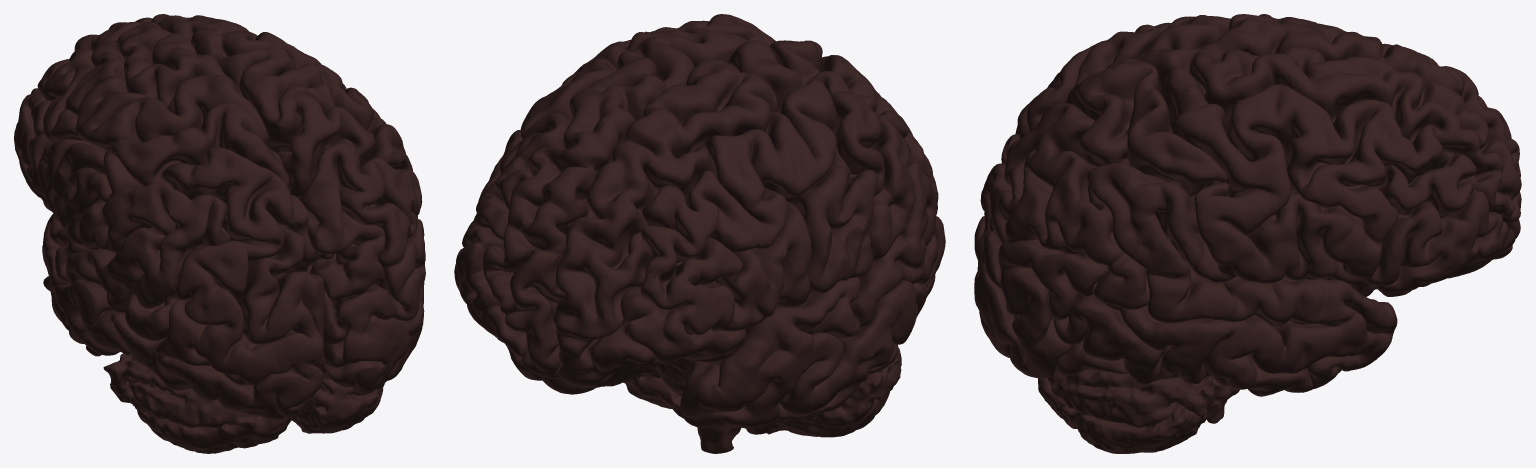
Rendered from brain-human.glb.
3 renders of one model, left to right at view 1: azimuth 30°, elevation 25°; view 2: azimuth 150°, elevation 25°; view 3: azimuth 270°, elevation 25°, orthographic. The views are drawn at different scales.
Parts seen in each view (by area): view 1: Object_4, Object_3, Object_2, Object_5; view 2: Object_4, Object_3, Object_2, Object_5; view 3: Object_3, Object_2, Object_5, Object_4.
Part boxes in pixels (x1,y1,x2,y2): Object_4: [14, 21, 425, 419]; Object_3: [29, 14, 386, 402]; Object_2: [103, 19, 423, 453]; Object_5: [214, 32, 424, 378]; Object_4: [556, 41, 945, 428]; Object_3: [454, 35, 937, 394]; Object_2: [521, 14, 901, 453]; Object_5: [521, 14, 771, 129]; Object_3: [974, 14, 1521, 392]; Object_2: [974, 47, 1512, 453]; Object_5: [1020, 51, 1295, 396]; Object_4: [974, 16, 1520, 378].
Bounding box in the file's own units: 134 × 142 × 182.
